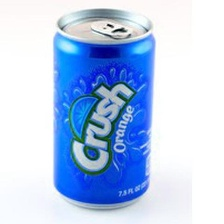can: (49, 0, 157, 213)
